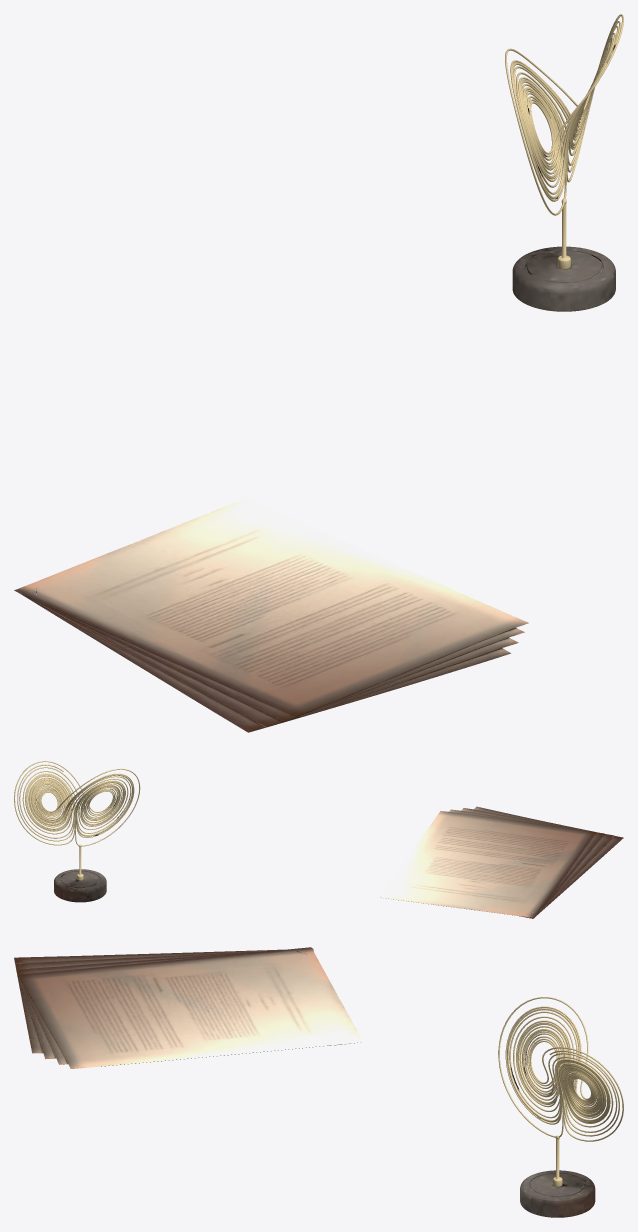
The model's file is lorenz.glb.
3 renders of one model, top to bottom at view 1: azimuth 30°, elevation 25°; view 2: azimuth 150°, elevation 25°; view 3: azimuth 270°, elevation 25°, orthographic. The views are drawn at different scales.
Parts seen in each view (by area): view 1: paper__mesh, lorenz_sculpture__mesh; view 2: paper__mesh, lorenz_sculpture__mesh; view 3: paper__mesh, lorenz_sculpture__mesh.
Boxes of the visible parts, <box> form: paper__mesh: <box>14,497,528,732</box>; lorenz_sculpture__mesh: <box>505,14,623,311</box>; paper__mesh: <box>379,806,623,918</box>; lorenz_sculpture__mesh: <box>14,761,140,902</box>; paper__mesh: <box>14,947,362,1068</box>; lorenz_sculpture__mesh: <box>498,997,623,1217</box>.
Bounding box in the file's own units: 0.6306 × 0.1888 × 0.5677.
Materials: 2 (2 with a texture image).
